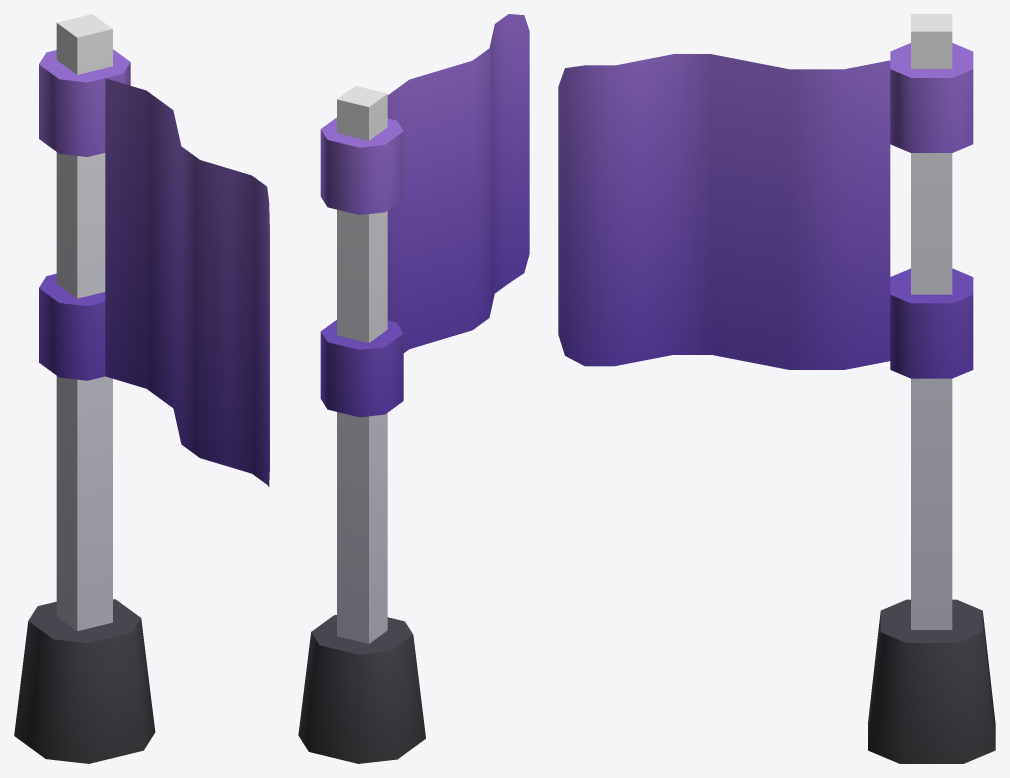
Rendered from platformer_flag.glb.
3 views of the same model, side by side, from view 1: azimuth 30°, elevation 25°; view 2: azimuth 150°, elevation 25°; view 3: azimuth 270°, elevation 25° (orthographic). The views are drawn at different scales.
Parts seen in each view (by area): view 1: flag; view 2: flag; view 3: flag.
Part boxes in pixels (left/top/right/bottom): flag: left=14, top=14, right=269, bottom=763; flag: left=298, top=14, right=529, bottom=763; flag: left=558, top=14, right=995, bottom=763.
Bounding box in the file's own units: 0.2 × 1.24 × 0.685.
1 material, 1 textured.
